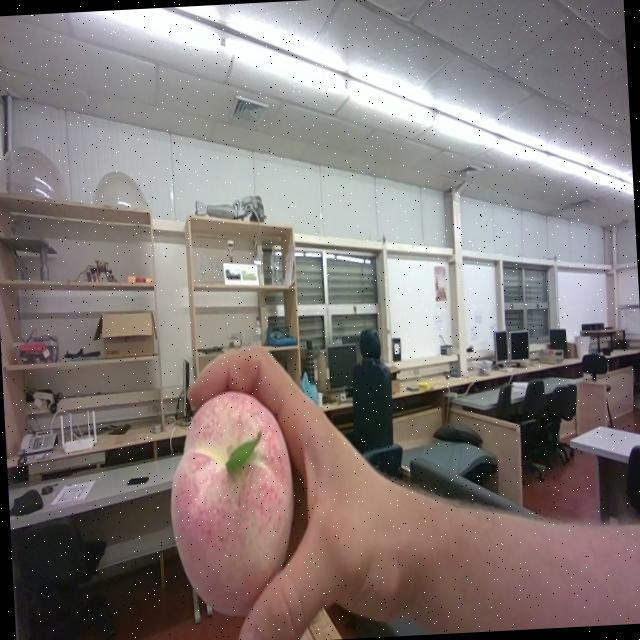peach: (171, 392, 293, 616)
